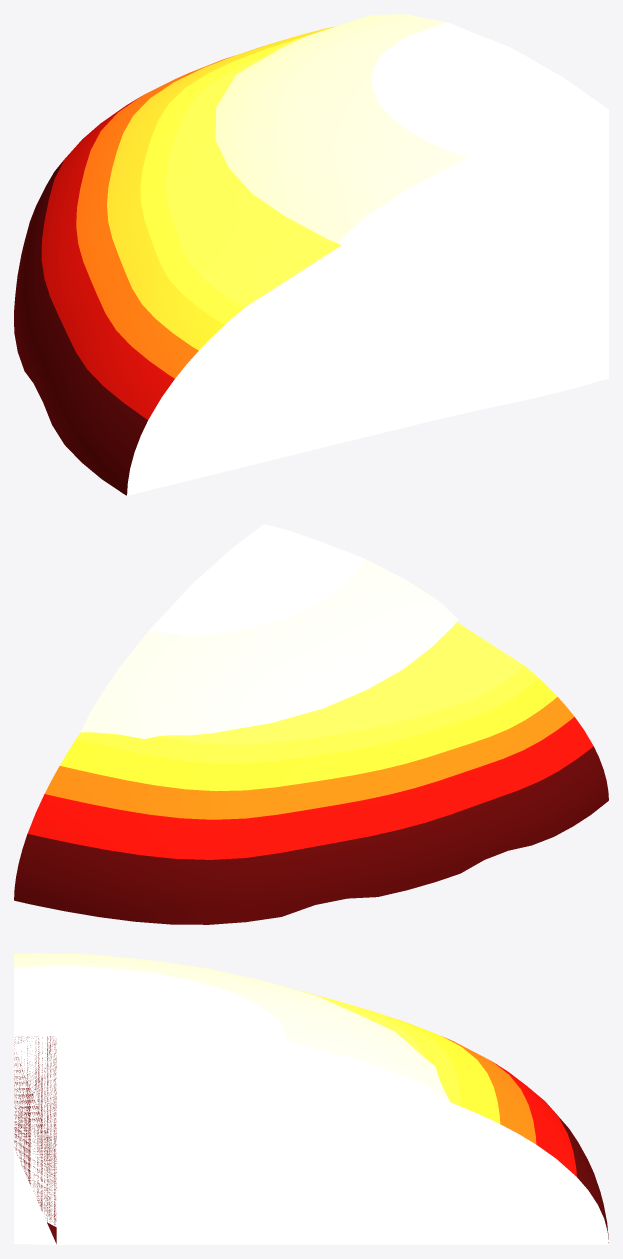
The model's file is shot_megacannon_b96.glb.
3 renders of one model, top to bottom at view 1: azimuth 30°, elevation 25°; view 2: azimuth 150°, elevation 25°; view 3: azimuth 270°, elevation 25°, orthographic. The views are drawn at different scales.
Parts seen in each view (by area): view 1: megacannon_blast_yellow_b96, megacannon_blast_core_yellow_b96; view 2: megacannon_blast_yellow_b96, megacannon_blast_core_yellow_b96; view 3: megacannon_blast_core_yellow_b96, megacannon_blast_yellow_b96.
Boxes of the visible parts, left/top/right/bottom form: megacannon_blast_yellow_b96: left=14, top=26, right=608, bottom=495; megacannon_blast_core_yellow_b96: left=215, top=14, right=608, bottom=336; megacannon_blast_yellow_b96: left=14, top=622, right=608, bottom=924; megacannon_blast_core_yellow_b96: left=81, top=524, right=458, bottom=738; megacannon_blast_core_yellow_b96: left=14, top=953, right=450, bottom=1244; megacannon_blast_yellow_b96: left=14, top=989, right=608, bottom=1244.
Size of the model in its own units: 11.07 by 5.93 by 13.9.
